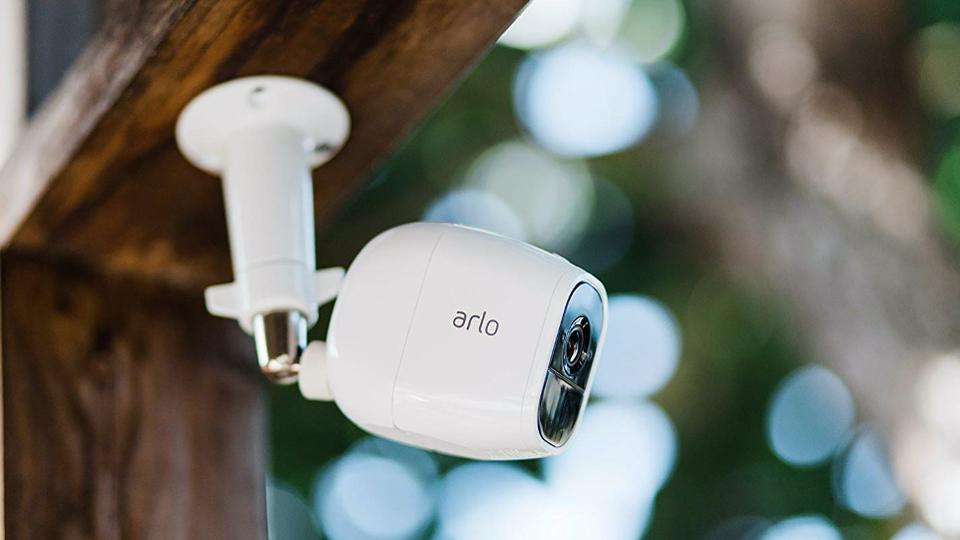Nest Cam: (294, 218, 622, 463)
